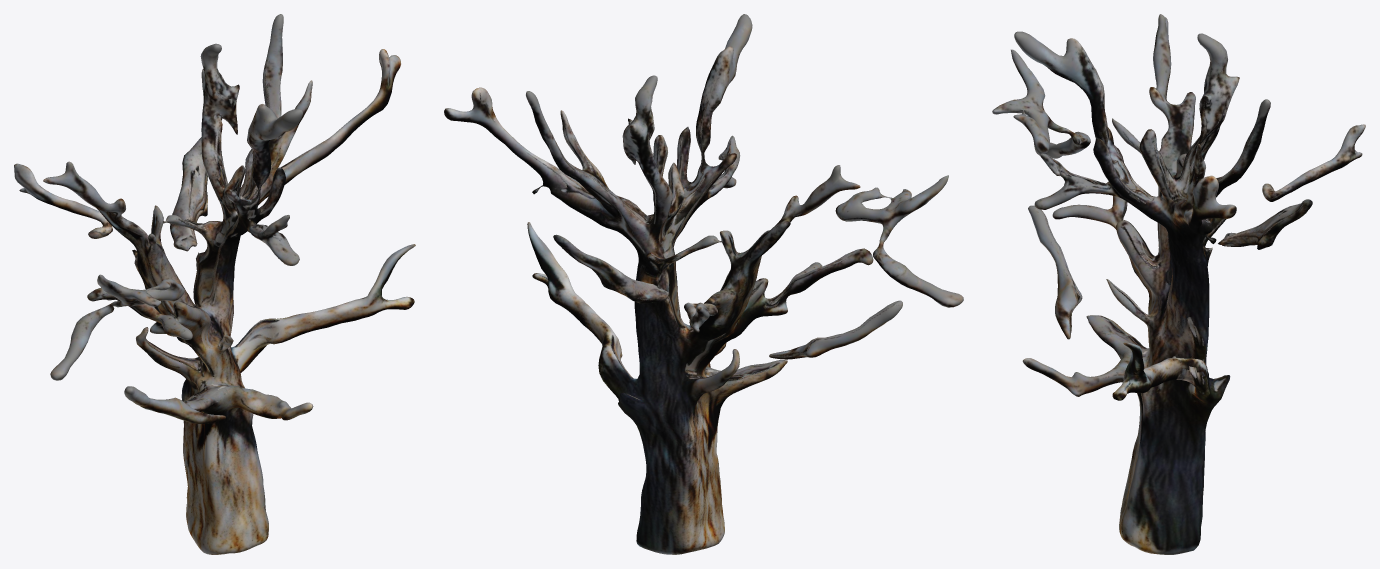
Rendered from 2c7b3aff3dee_dead_tree_min.fbx.
3 renders of one model, left to right at view 1: azimuth 30°, elevation 25°; view 2: azimuth 150°, elevation 25°; view 3: azimuth 270°, elevation 25°, orthographic. The views are drawn at different scales.
Visible parts, largest first — view 1: mesh; view 2: mesh; view 3: mesh.
Boxes of the visible parts, x1,y1,x2,y2 form: mesh: (14, 14, 415, 554); mesh: (444, 14, 963, 554); mesh: (992, 14, 1365, 554).
Bounding box in the file's own units: 94.09 × 99.66 × 66.21.
